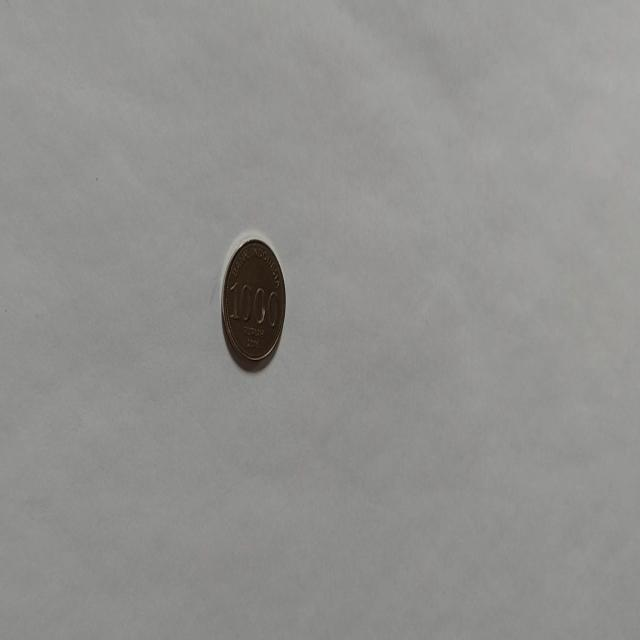seribu rupiah koin: (219, 232, 287, 372)
